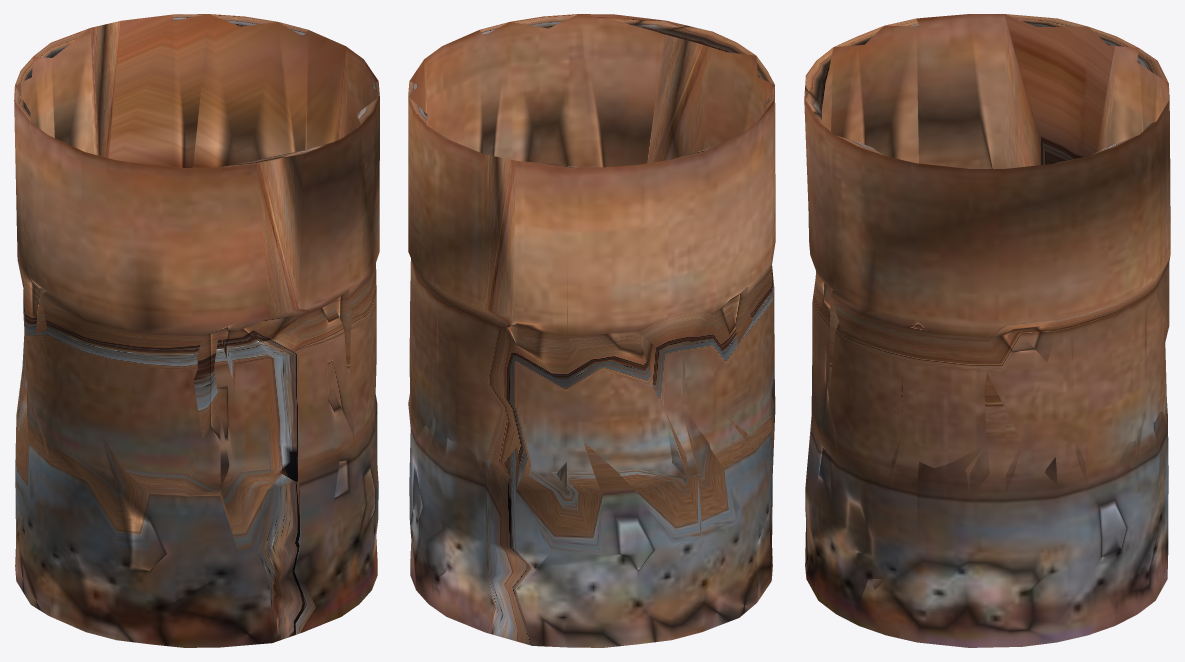
File: stove-barrel.lite.19220041.glb
3 renders of one model, left to right at view 1: azimuth 30°, elevation 25°; view 2: azimuth 150°, elevation 25°; view 3: azimuth 270°, elevation 25°, orthographic.
Visible parts, largest first — view 1: model; view 2: model; view 3: model.
Boxes of the visible parts, bbox=[...] form: model: bbox=[14, 14, 379, 647]; model: bbox=[408, 14, 775, 647]; model: bbox=[804, 14, 1170, 647].
Size of the model in its own units: 0.5797 by 0.8449 by 0.5803.
1 material, 1 textured.
